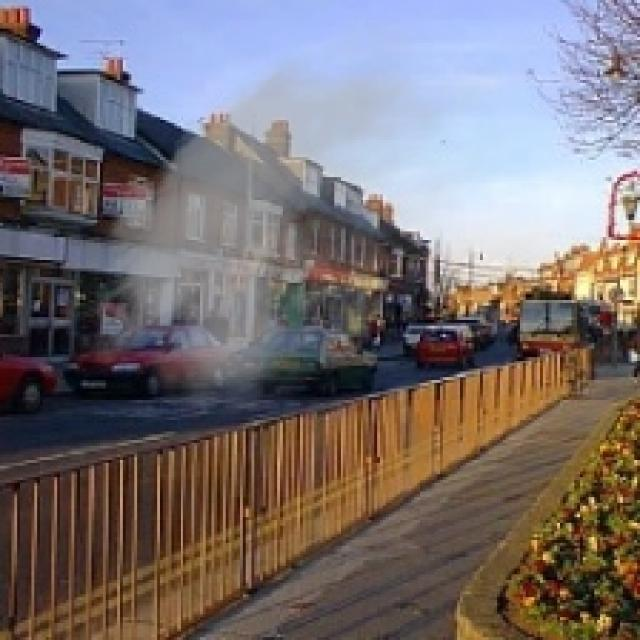Smoke: (77, 12, 503, 434)
